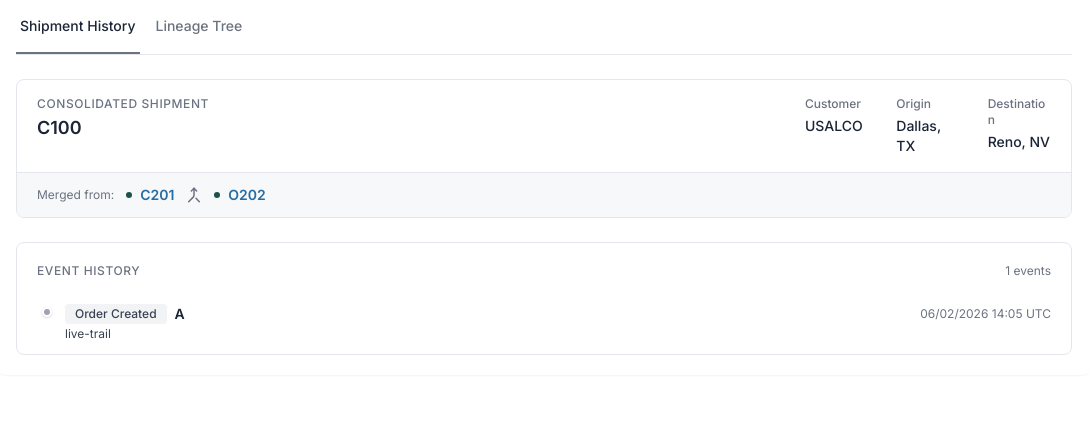
HistoryTab — lineage › preview shows that shipment's own trail and how it came to be
The image size is (1089, 421).
Click the button "Lineage Tree": (199, 35) [152,16,246,54]
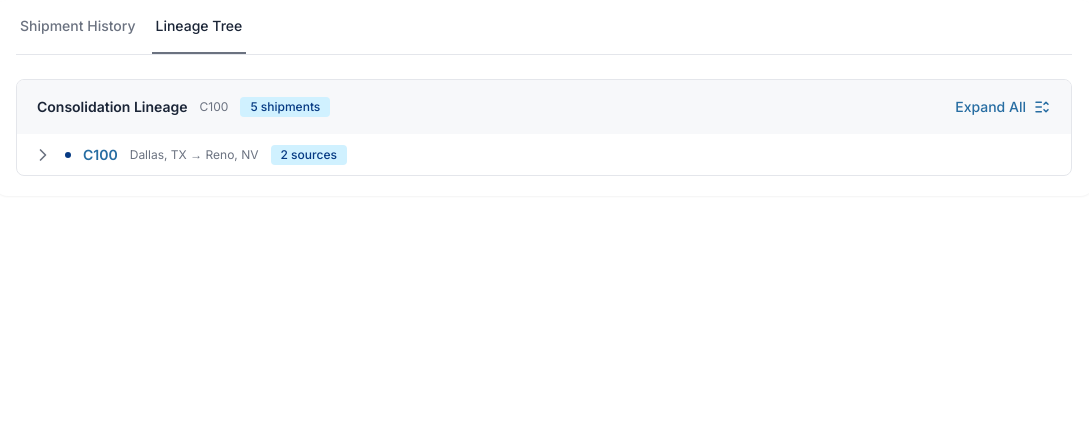
Click the button "Expand All": (1003, 107) [954,96,1051,118]
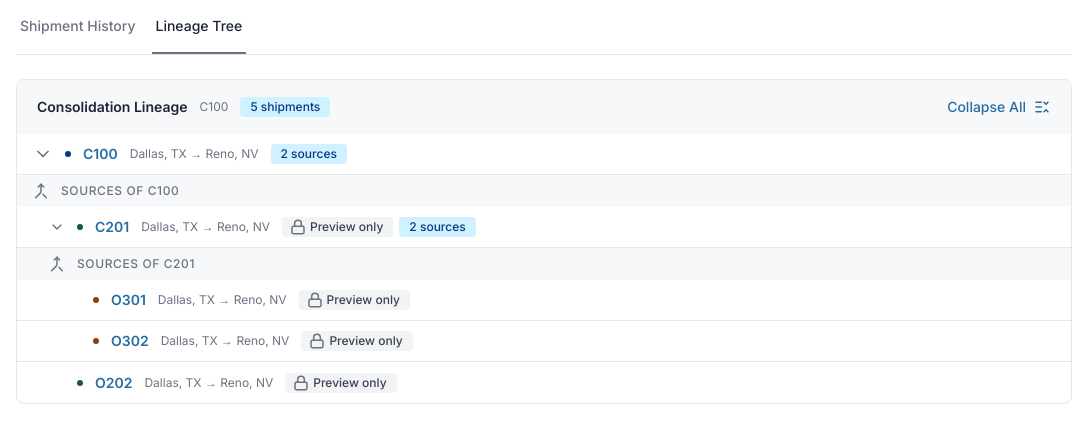
Click the button "O301": (128, 300) [111,290,146,310]
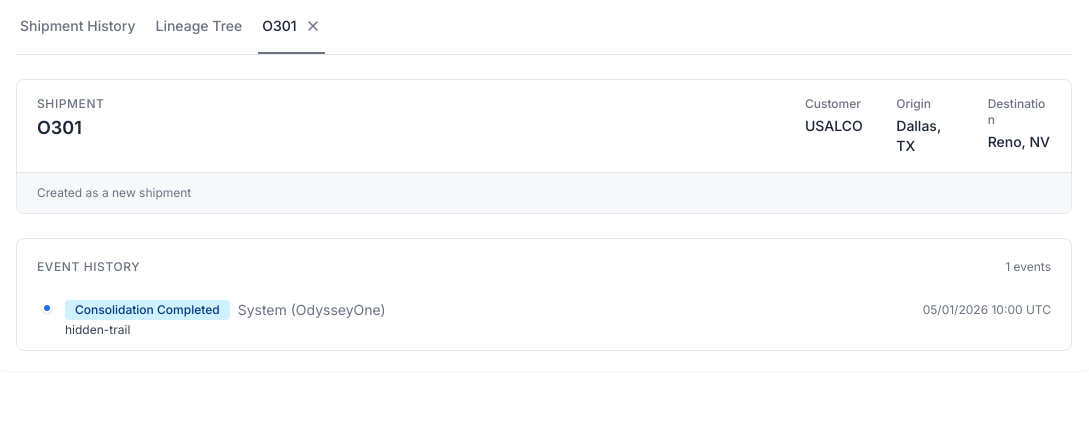
Expected: the text "Merged from:" is not shown
Now the text "hidden-trail" is shown, box [65,322,130,337]
Now the text "Created as a new shipment" is shown, box [37,185,191,201]
